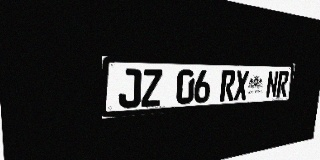0: (176, 69, 195, 105)
6: (193, 70, 211, 103)
J: (118, 69, 141, 109)
N: (265, 71, 279, 98)
R: (220, 70, 236, 102), (276, 71, 289, 97)
X: (234, 70, 249, 101)
Z: (141, 69, 162, 107)
